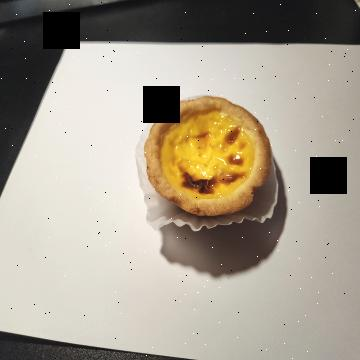EggTart: (143, 93, 272, 218)
